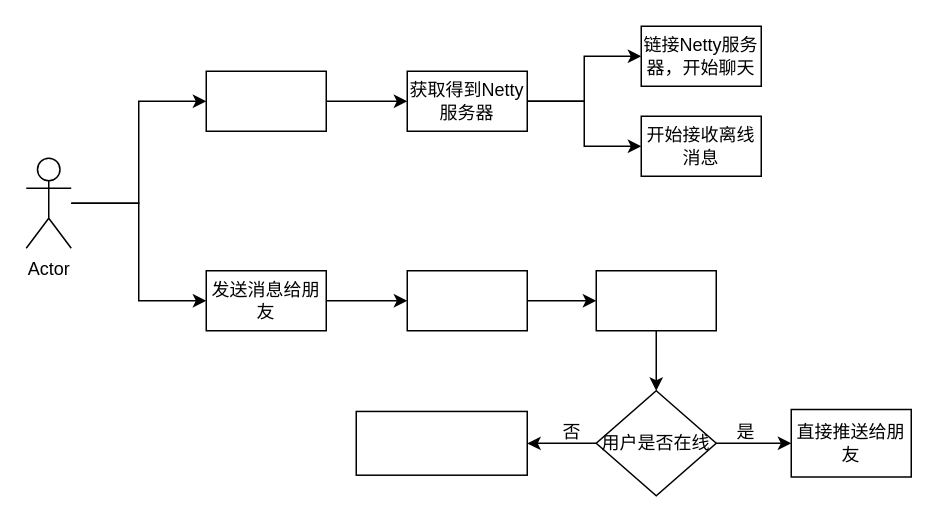
Image size: 938x522. Some labels were removed from this diagram. The centre of each missing label's shape, as x and y in pixels:
"保存到Mongdb，等到上线推送离线消息" goes at point (441, 442).
"消息发送到代理netty服务" goes at point (655, 300).
"获取朋友所在的Netty服务器地址" goes at point (466, 300).
"验证、登陆" goes at point (265, 100).
